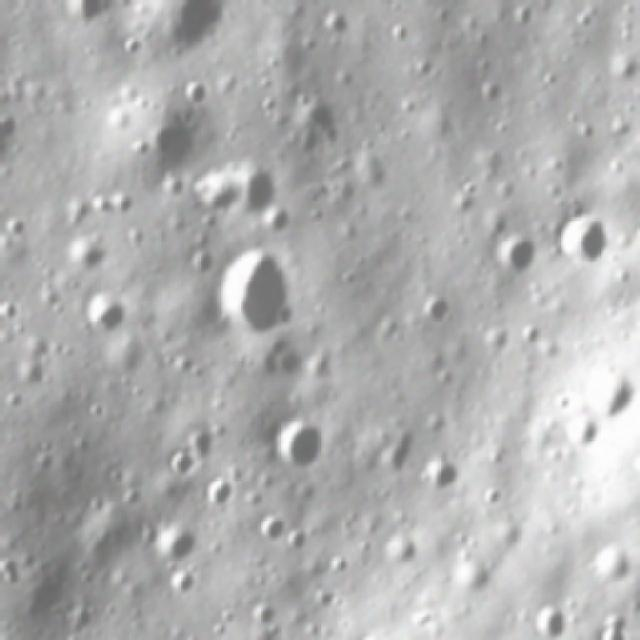crater: (208, 241, 302, 336), (139, 106, 196, 172), (268, 413, 326, 473), (576, 365, 633, 423), (555, 210, 608, 267), (282, 94, 338, 146), (195, 165, 248, 217), (250, 331, 304, 380), (80, 286, 131, 337), (150, 517, 198, 568), (586, 541, 636, 587), (492, 232, 542, 278), (375, 424, 420, 474), (66, 232, 111, 276), (418, 452, 462, 496), (450, 555, 496, 597), (561, 411, 602, 454), (529, 600, 573, 640), (378, 529, 422, 568), (416, 285, 452, 324), (179, 76, 215, 112), (184, 427, 222, 461), (288, 126, 327, 159), (444, 183, 479, 219), (253, 512, 290, 546), (201, 476, 237, 510), (66, 598, 100, 632), (21, 329, 53, 365), (160, 452, 198, 482), (16, 358, 50, 391), (474, 74, 506, 108), (477, 211, 509, 244), (318, 6, 349, 40), (62, 193, 93, 225), (250, 592, 276, 628), (330, 64, 359, 95), (596, 616, 633, 638), (32, 449, 58, 480), (168, 572, 198, 598), (107, 192, 136, 217), (282, 526, 307, 554), (1, 554, 21, 588), (3, 213, 29, 239), (313, 584, 339, 608), (253, 94, 279, 118), (120, 32, 143, 58), (384, 22, 410, 44), (573, 118, 595, 144), (414, 54, 435, 80), (5, 386, 24, 414), (86, 399, 106, 424), (1, 298, 22, 320)
